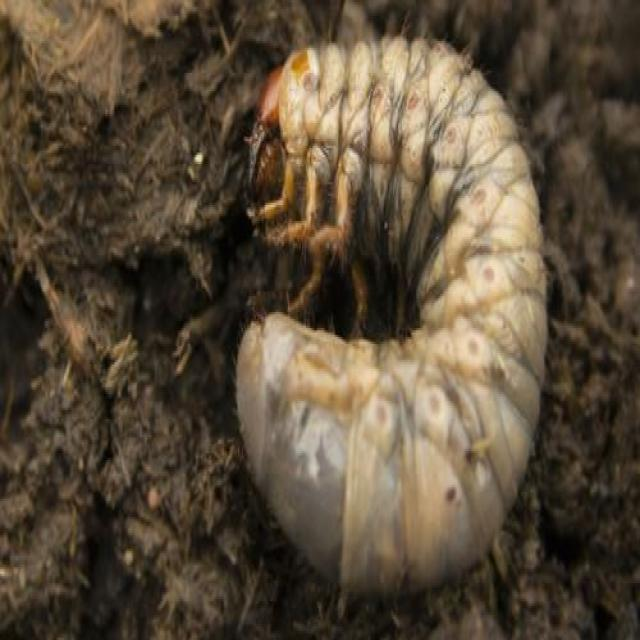Grub-Adult-: (226, 38, 555, 595)
